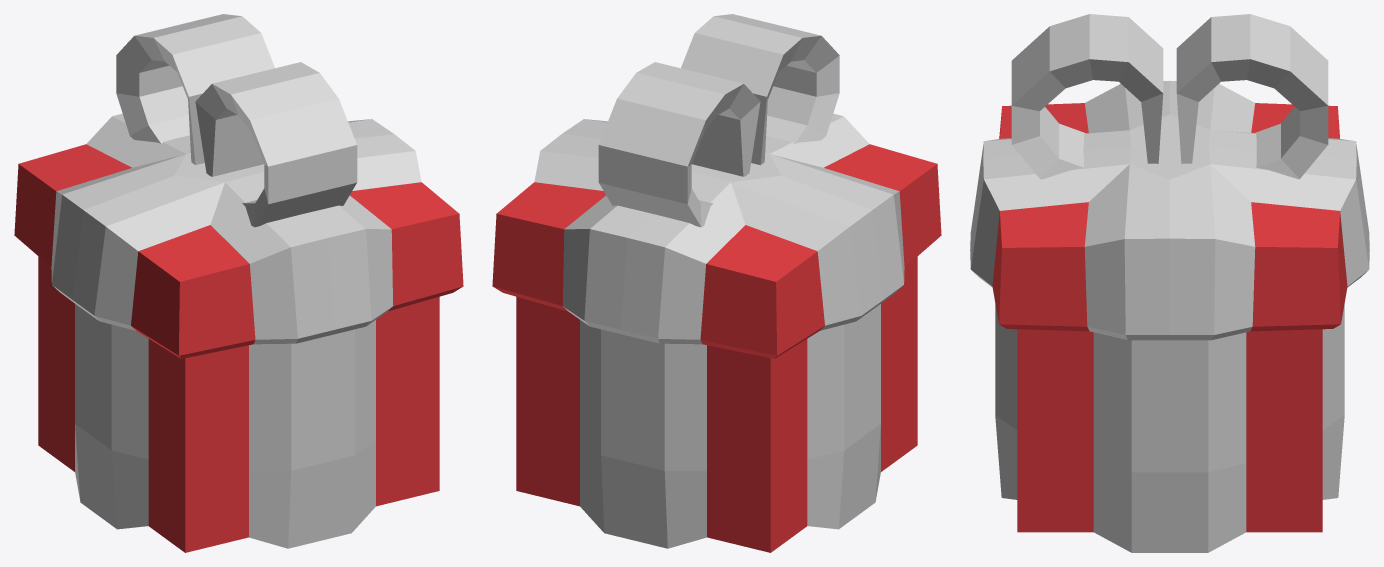
The model's file is Gift.fbx.
3 renders of one model, left to right at view 1: azimuth 30°, elevation 25°; view 2: azimuth 150°, elevation 25°; view 3: azimuth 270°, elevation 25°, orthographic. The views are drawn at different scales.
Visible parts, largest first — view 1: Gift, Gift.001; view 2: Gift, Gift.001; view 3: Gift, Gift.001.
Boxes of the visible parts, left/top/right/bottom form: Gift: left=14, top=113, right=463, bottom=552; Gift.001: left=116, top=14, right=357, bottom=227; Gift: left=492, top=113, right=941, bottom=552; Gift.001: left=598, top=14, right=839, bottom=227; Gift: left=970, top=80, right=1369, bottom=552; Gift.001: left=1011, top=14, right=1328, bottom=179.
Bounding box in the file's own units: 131 × 131 × 162.
